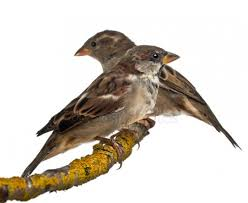hsparrow: (20, 45, 182, 187), (74, 29, 247, 157)
